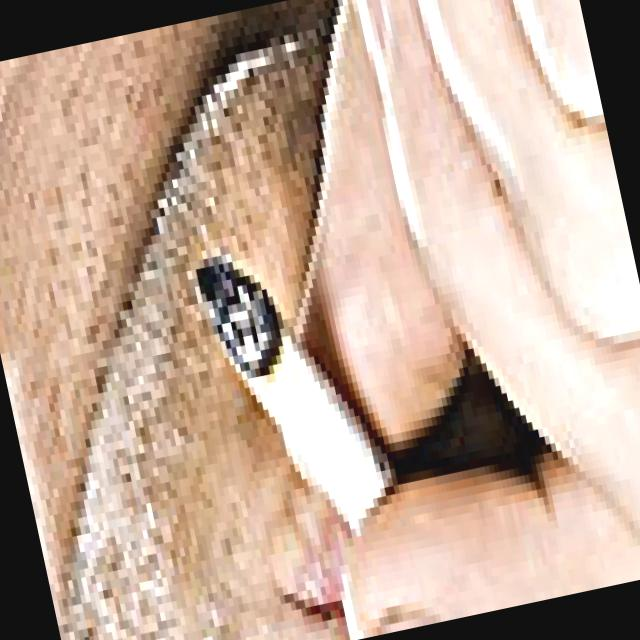cigarette: (188, 217, 419, 608)
